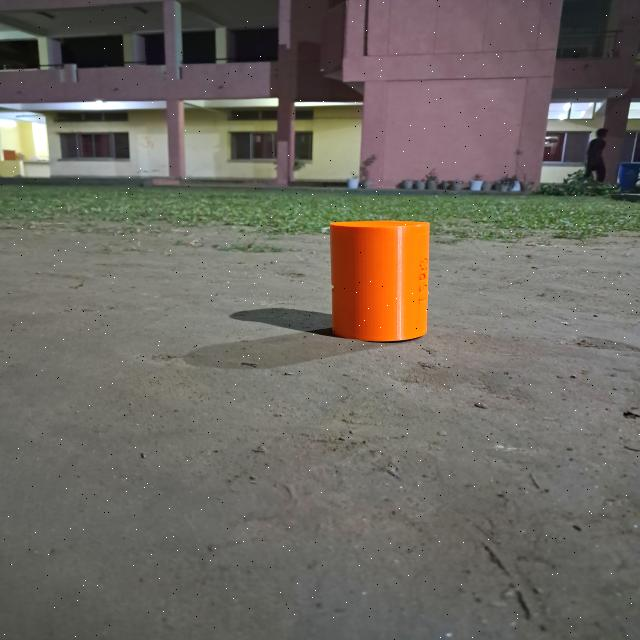Cylinder: (328, 220, 430, 342)
